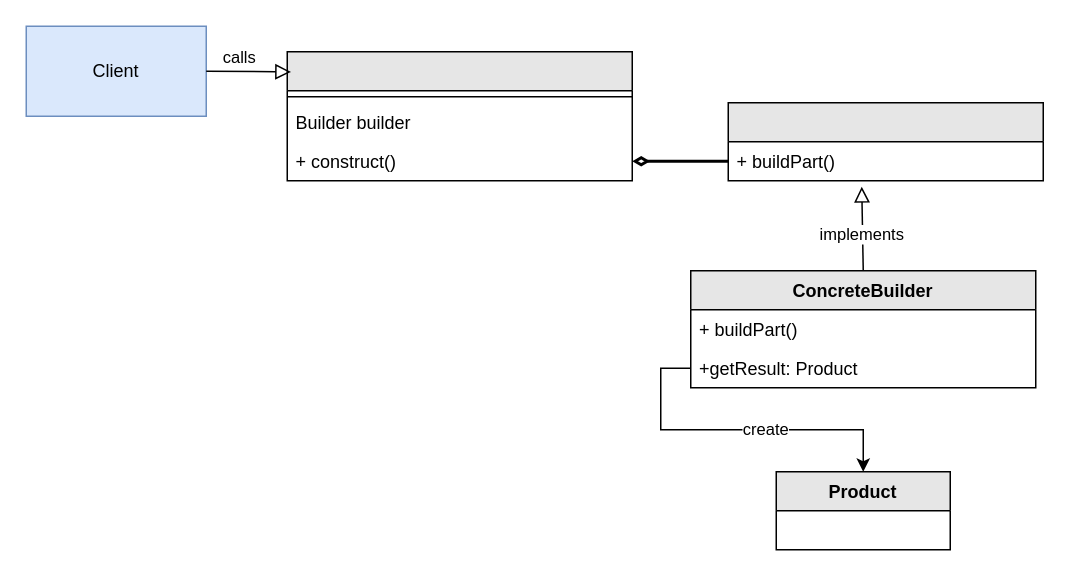
This 1070x576 diagram has some shape labels left out. Here are the shapes that lost their labels. From the top down, the box of each, then its label:
(286, 50, 632, 181): Director
(727, 101, 1043, 181): Builder
